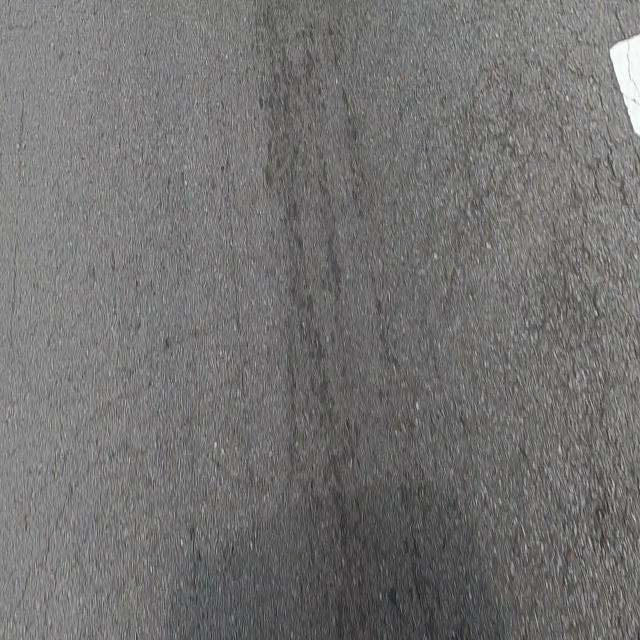Retak-Buaya: (466, 7, 640, 597)
